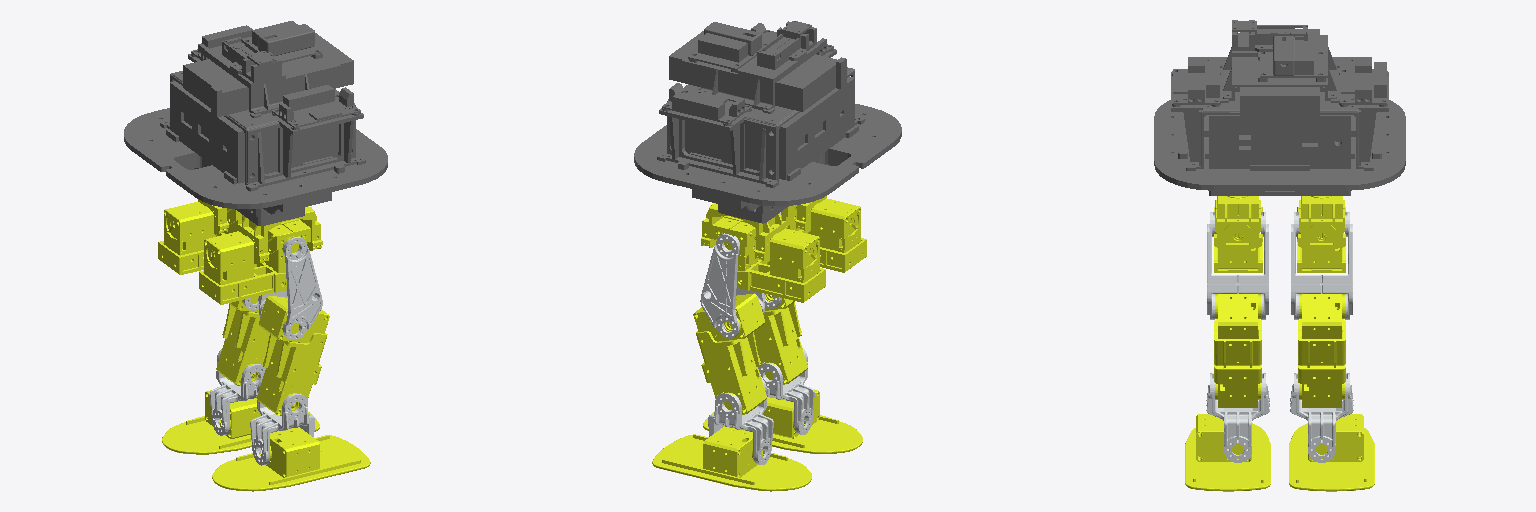
The robot description file, URDF, robot "exhx5_w_b_16":
<?xml version="1.0" encoding="utf-8"?>
<!-- This URDF was automatically created by SolidWorks to URDF Exporter! Originally created by [author] ([email redacted]) 
     Commit Version: 1.5.1-0-g916b5db  Build Version: 1.5.7152.31018
     For more information, please see http://wiki.ros.org/sw_urdf_exporter -->
<robot
  name="exhx5_w_b_16">
  <link
    name="body_link">
    <inertial>
      <origin
        xyz="0.00043545 0.00025536 0.10071"
        rpy="0 0 0" />
      <mass
        value="1.8238" />
      <inertia
        ixx="0.0025905"
        ixy="-5.6852E-06"
        ixz="-1.3106E-05"
        iyy="0.0024595"
        iyz="-1.261E-06"
        izz="0.0046407" />
    </inertial>
    <visual>
      <origin
        xyz="0 0 0"
        rpy="0 0 0" />
      <geometry>
        <mesh
          filename="../meshes/body_link.STL" />
      </geometry>
      <material
        name="">
        <color
          rgba="0.49804 0.49804 0.49804 1" />
      </material>
    </visual>
    <collision>
      <origin
        xyz="0 0 0"
        rpy="0 0 0" />
      <geometry>
        <mesh
          filename="../meshes/body_link.STL" />
      </geometry>
    </collision>
  </link>

  <link
    name="imu_link">
    <inertial>
      <origin
        xyz="-0.008387 1.336E-17 -0.0069463"
        rpy="0 0 0" />
      <mass
        value="0.0062931" />
      <inertia
        ixx="3.2242E-07"
        ixy="3.3527E-22"
        ixz="-6.9193E-08"
        iyy="9.2229E-07"
        iyz="-8.0392E-22"
        izz="1.1018E-06" />
    </inertial>
    <visual>
      <origin
        xyz="0 0 0"
        rpy="0 0 0" />
      <geometry>
        <mesh
          filename="../meshes/imu_link.STL" />
      </geometry>
      <material
        name="">
        <color
          rgba="0.79216 0.81961 0.93333 1" />
      </material>
    </visual>
    <collision>
      <origin
        xyz="0 0 0"
        rpy="0 0 0" />
      <geometry>
        <mesh
          filename="../meshes/imu_link.STL" />
      </geometry>
    </collision>
  </link>
  <joint
    name="imu"
    type="fixed">
    <origin
      xyz="0 0 0.0492"
      rpy="0 0 0" />
    <parent
      link="body_link" />
    <child
      link="imu_link" />
    <axis
      xyz="0 0 0" />
    <limit
      lower="-3.14"
      upper="3.14"
      effort="4"
      velocity="4" />
  </joint>
  <link
    name="l_hip_g_link">
    <inertial>
      <origin
        xyz="-0.0043797 -8.6604E-08 0.011813"
        rpy="0 0 0" />
      <mass
        value="0.061008" />
      <inertia
        ixx="1.167E-05"
        ixy="7.1767E-11"
        ixz="9.1442E-09"
        iyy="2.2342E-05"
        iyz="2.5177E-11"
        izz="2.4892E-05" />
    </inertial>
    <visual>
      <origin
        xyz="0 0 0"
        rpy="0 0 0" />
      <geometry>
        <mesh
          filename="../meshes/l_hip_g_link.STL" />
      </geometry>
      <material
        name="">
        <color
          rgba="0.9451 1 0.18431 1" />
      </material>
    </visual>
    <collision>
      <origin
        xyz="0 0 0"
        rpy="0 0 0" />
      <geometry>
        <mesh
          filename="../meshes/l_hip_g_link.STL" />
      </geometry>
    </collision>
  </link>
  <joint
    name="l_hip_g"
    type="fixed">
    <origin
      xyz=".002 .035 0"
      rpy="0 0 0" />
    <parent
      link="body_link" />
    <child
      link="l_hip_g_link" />
    <axis
      xyz="0 0 0" />
  </joint>
  <link
    name="l_hip_roll_link">
    <inertial>
      <origin
        xyz="0.013831 0.00033457 0.025453"
        rpy="0 0 0" />
      <mass
        value="0.2969" />
      <inertia
        ixx="7.8136E-05"
        ixy="7.265E-07"
        ixz="-6.9809E-08"
        iyy="9.2183E-05"
        iyz="-5.6881E-11"
        izz="7.1034E-05" />
    </inertial>
    <visual>
      <origin
        xyz="0 0 0"
        rpy="0 0 0" />
      <geometry>
        <mesh
          filename="../meshes/l_hip_roll_link.STL" />
      </geometry>
      <material
        name="">
        <color
          rgba="0.9451 1 0.18431 1" />
      </material>
    </visual>
    <collision>
      <origin
        xyz="0 0 0"
        rpy="0 0 0" />
      <geometry>
        <mesh
          filename="../meshes/l_hip_roll_link.STL" />
      </geometry>
    </collision>
  </link>
  <joint
    name="l_hip_roll"
    type="revolute">
    <origin
      xyz="0 0 0"
      rpy="3.1416 1.5708 0" />
    <parent
      link="l_hip_g_link" />
    <child
      link="l_hip_roll_link" />
    <axis
      xyz="0 0 1" />
    <limit
      lower="-3.14"
      upper="3.14"
      effort="4"
      velocity="4" />
  </joint>
  <link
    name="l_hip_pitch_link">
    <inertial>
      <origin
        xyz="0.041225 -0.007321 -5.0713E-08"
        rpy="0 0 0" />
      <mass
        value="0.051592" />
      <inertia
        ixx="2.7959E-05"
        ixy="2.0752E-06"
        ixz="-8.0934E-11"
        iyy="4.8156E-05"
        iyz="3.6317E-11"
        izz="2.9604E-05" />
    </inertial>
    <visual>
      <origin
        xyz="0 0 0"
        rpy="0 0 0" />
      <geometry>
        <mesh
          filename="../meshes/l_hip_pitch_link.STL" />
      </geometry>
      <material
        name="">
        <color
          rgba="0.89804 0.91765 0.92941 1" />
      </material>
    </visual>
    <collision>
      <origin
        xyz="0 0 0"
        rpy="0 0 0" />
      <geometry>
        <mesh
          filename="../meshes/l_hip_pitch_link.STL" />
      </geometry>
    </collision>
  </link>
  <joint
    name="l_hip_pitch"
    type="revolute">
    <origin
      xyz="0 0 0"
      rpy="1.5708 0 0" />
    <parent
      link="l_hip_roll_link" />
    <child
      link="l_hip_pitch_link" />
    <axis
      xyz="0 0 1" />
    <limit
      lower="-3.14"
      upper="3.14"
      effort="4"
      velocity="4" />
  </joint>
  <link
    name="l_knee_link">
    <inertial>
      <origin
        xyz="0.033756 -0.0084189 -6.6115E-09"
        rpy="0 0 0" />
      <mass
        value="0.28878" />
      <inertia
        ixx="6.6724E-05"
        ixy="7.5004E-07"
        ixz="-8.4578E-07"
        iyy="6.5699E-05"
        iyz="4.1085E-07"
        izz="7.0381E-05" />
    </inertial>
    <visual>
      <origin
        xyz="0 0 0"
        rpy="0 0 0" />
      <geometry>
        <mesh
          filename="../meshes/l_knee_link.STL" />
      </geometry>
      <material
        name="">
        <color
          rgba="0.9451 1 0.18431 1" />
      </material>
    </visual>
    <collision>
      <origin
        xyz="0 0 0"
        rpy="0 0 0" />
      <geometry>
        <mesh
          filename="../meshes/l_knee_link.STL" />
      </geometry>
    </collision>
  </link>
  <joint
    name="l_knee"
    type="revolute">
    <origin
      xyz="0.075954 0 0"
      rpy="0 0 0" />
    <parent
      link="l_hip_pitch_link" />
    <child
      link="l_knee_link" />
    <axis
      xyz="0 0 1" />
    <limit
      lower="-3.14"
      upper="3.14"
      effort="4"
      velocity="4" />
  </joint>
  <link
    name="l_ank_pitch_link">
    <inertial>
      <origin
        xyz="0.022786 -7.3909E-09 -7.1981E-06"
        rpy="0 0 0" />
      <mass
        value="0.044772" />
      <inertia
        ixx="1.777E-05"
        ixy="8.555E-14"
        ixz="-3.3713E-09"
        iyy="1.7119E-05"
        iyz="1.7593E-11"
        izz="1.8661E-05" />
    </inertial>
    <visual>
      <origin
        xyz="0 0 0"
        rpy="0 0 0" />
      <geometry>
        <mesh
          filename="../meshes/l_ank_pitch_link.STL" />
      </geometry>
      <material
        name="">
        <color
          rgba="0.89804 0.91765 0.92941 1" />
      </material>
    </visual>
    <collision>
      <origin
        xyz="0 0 0"
        rpy="0 0 0" />
      <geometry>
        <mesh
          filename="../meshes/l_ank_pitch_link.STL" />
      </geometry>
    </collision>
  </link>
  <joint
    name="l_ank_pitch"
    type="revolute">
    <origin
      xyz="0.074602 0 0"
      rpy="3.1416 0 0" />
    <parent
      link="l_knee_link" />
    <child
      link="l_ank_pitch_link" />
    <axis
      xyz="0 0 1" />
    <limit
      lower="-3.14"
      upper="3.14"
      effort="4"
      velocity="4" />
  </joint>
  <link
    name="l_ank_roll_link">
    <inertial>
      <origin
        xyz="0.0047069 0.010728 0.0015299"
        rpy="0 0 0" />
      <mass
        value="0.16774" />
      <inertia
        ixx="0.00012039"
        ixy="-3.7428E-09"
        ixz="4.4069E-08"
        iyy="8.7735E-05"
        iyz="7.0469E-07"
        izz="4.7866E-05" />
    </inertial>
    <visual>
      <origin
        xyz="0 0 0"
        rpy="0 0 0" />
      <geometry>
        <mesh
          filename="../meshes/l_ank_roll_link.STL" />
      </geometry>
      <material
        name="">
        <color
          rgba="0.9451 1 0.18431 1" />
      </material>
    </visual>
    <collision>
      <origin
        xyz="0 0 0"
        rpy="0 0 0" />
      <geometry>
        <mesh
          filename="../meshes/l_ank_roll_link.STL" />
      </geometry>
    </collision>
  </link>
  <joint
    name="l_ank_roll"
    type="revolute">
    <origin
      xyz="0.0465 0 0"
      rpy="-1.5708 0 0" />
    <parent
      link="l_ank_pitch_link" />
    <child
      link="l_ank_roll_link" />
    <axis
      xyz="0 0 1" />
    <limit
      lower="-3.14"
      upper="3.14"
      effort="4"
      velocity="4" />
  </joint>
  <link
    name="r_hip_g_link">
    <inertial>
      <origin
        xyz="-0.0043797 -8.6604E-08 0.011813"
        rpy="0 0 0" />
      <mass
        value="0.061008" />
      <inertia
        ixx="1.167E-05"
        ixy="7.1767E-11"
        ixz="9.1442E-09"
        iyy="2.2342E-05"
        iyz="2.5177E-11"
        izz="2.4892E-05" />
    </inertial>
    <visual>
      <origin
        xyz="0 0 0"
        rpy="0 0 0" />
      <geometry>
        <mesh
          filename="../meshes/r_hip_g_link.STL" />
      </geometry>
      <material
        name="">
        <color
          rgba="0.9451 1 0.18431 1" />
      </material>
    </visual>
    <collision>
      <origin
        xyz="0 0 0"
        rpy="0 0 0" />
      <geometry>
        <mesh
          filename="../meshes/r_hip_g_link.STL" />
      </geometry>
    </collision>
  </link>
  <joint
    name="r_hip_g"
    type="fixed">
    <origin
      xyz=".002 -.035 0"
      rpy="0 0 0" />
    <parent
      link="body_link" />
    <child
      link="r_hip_g_link" />
    <axis
      xyz="0 0 0" />
  </joint>
  <link
    name="r_hip_roll_link">
    <inertial>
      <origin
        xyz="0.013831 0.00033457 0.025453"
        rpy="0 0 0" />
      <mass
        value="0.2969" />
      <inertia
        ixx="7.8136E-05"
        ixy="7.265E-07"
        ixz="-6.9809E-08"
        iyy="9.2183E-05"
        iyz="-5.6881E-11"
        izz="7.1034E-05" />
    </inertial>
    <visual>
      <origin
        xyz="0 0 0"
        rpy="0 0 0" />
      <geometry>
        <mesh
          filename="../meshes/r_hip_roll_link.STL" />
      </geometry>
      <material
        name="">
        <color
          rgba="0.9451 1 0.18431 1" />
      </material>
    </visual>
    <collision>
      <origin
        xyz="0 0 0"
        rpy="0 0 0" />
      <geometry>
        <mesh
          filename="../meshes/r_hip_roll_link.STL" />
      </geometry>
    </collision>
  </link>
  <joint
    name="r_hip_roll"
    type="revolute">
    <origin
      xyz="0 0 0"
      rpy="3.1416 1.5708 0" />
    <parent
      link="r_hip_g_link" />
    <child
      link="r_hip_roll_link" />
    <axis
      xyz="0 0 1" />
    <limit
      lower="-3.14"
      upper="3.14"
      effort="4"
      velocity="4" />
  </joint>
  <link
    name="r_hip_pitch_link">
    <inertial>
      <origin
        xyz="0.041225 0.007321 5.0713E-08"
        rpy="0 0 0" />
      <mass
        value="0.051592" />
      <inertia
        ixx="2.7959E-05"
        ixy="-2.0752E-06"
        ixz="8.0934E-11"
        iyy="4.8156E-05"
        iyz="3.6317E-11"
        izz="2.9604E-05" />
    </inertial>
    <visual>
      <origin
        xyz="0 0 0"
        rpy="0 0 0" />
      <geometry>
        <mesh
          filename="../meshes/r_hip_pitch_link.STL" />
      </geometry>
      <material
        name="">
        <color
          rgba="0.89804 0.91765 0.92941 1" />
      </material>
    </visual>
    <collision>
      <origin
        xyz="0 0 0"
        rpy="0 0 0" />
      <geometry>
        <mesh
          filename="../meshes/r_hip_pitch_link.STL" />
      </geometry>
    </collision>
  </link>
  <joint
    name="r_hip_pitch"
    type="revolute">
    <origin
      xyz="0 0 0"
      rpy="-1.5708 0 0" />
    <parent
      link="r_hip_roll_link" />
    <child
      link="r_hip_pitch_link" />
    <axis
      xyz="0 0 1" />
    <limit
      lower="-3.14"
      upper="3.14"
      effort="4"
      velocity="4" />
  </joint>
  <link
    name="r_knee_link">
    <inertial>
      <origin
        xyz="0.033757 0.0084176 6.6115E-09"
        rpy="0 0 0" />
      <mass
        value="0.28878" />
      <inertia
        ixx="6.6724E-05"
        ixy="-7.5008E-07"
        ixz="8.458E-07"
        iyy="6.5699E-05"
        iyz="4.1081E-07"
        izz="7.0381E-05" />
    </inertial>
    <visual>
      <origin
        xyz="0 0 0"
        rpy="0 0 0" />
      <geometry>
        <mesh
          filename="../meshes/r_knee_link.STL" />
      </geometry>
      <material
        name="">
        <color
          rgba="0.9451 1 0.18431 1" />
      </material>
    </visual>
    <collision>
      <origin
        xyz="0 0 0"
        rpy="0 0 0" />
      <geometry>
        <mesh
          filename="../meshes/r_knee_link.STL" />
      </geometry>
    </collision>
  </link>
  <joint
    name="r_knee"
    type="revolute">
    <origin
      xyz="0.075954 0 0"
      rpy="0 0 0" />
    <parent
      link="r_hip_pitch_link" />
    <child
      link="r_knee_link" />
    <axis
      xyz="0 0 1" />
    <limit
      lower="-3.14"
      upper="3.14"
      effort="4"
      velocity="4" />
  </joint>
  <link
    name="r_ank_pitch_link">
    <inertial>
      <origin
        xyz="0.025786 -7.3887E-09 -7.1981E-06"
        rpy="0 0 0" />
      <mass
        value="0.044772" />
      <inertia
        ixx="1.777E-05"
        ixy="8.5434E-14"
        ixz="-3.3713E-09"
        iyy="1.7119E-05"
        iyz="1.7592E-11"
        izz="1.8661E-05" />
    </inertial>
    <visual>
      <origin
        xyz="0 0 0"
        rpy="0 0 0" />
      <geometry>
        <mesh
          filename="../meshes/r_ank_pitch_link.STL" />
      </geometry>
      <material
        name="">
        <color
          rgba="0.89804 0.91765 0.92941 1" />
      </material>
    </visual>
    <collision>
      <origin
        xyz="0 0 0"
        rpy="0 0 0" />
      <geometry>
        <mesh
          filename="../meshes/r_ank_pitch_link.STL" />
      </geometry>
    </collision>
  </link>
  <joint
    name="r_ank_pitch"
    type="revolute">
    <origin
      xyz="0.071602 0 0"
      rpy="3.1416 0 0" />
    <parent
      link="r_knee_link" />
    <child
      link="r_ank_pitch_link" />
    <axis
      xyz="0 0 1" />
    <limit
      lower="-3.14"
      upper="3.14"
      effort="4"
      velocity="4" />
  </joint>
  <link
    name="r_ank_roll_link">
    <inertial>
      <origin
        xyz="0.0077069 -0.010728 0.0015299"
        rpy="0 0 0" />
      <mass
        value="0.16774" />
      <inertia
        ixx="0.00012039"
        ixy="3.743E-09"
        ixz="4.407E-08"
        iyy="8.7735E-05"
        iyz="-7.0467E-07"
        izz="4.7866E-05" />
    </inertial>
    <visual>
      <origin
        xyz="0 0 0"
        rpy="0 0 0" />
      <geometry>
        <mesh
          filename="../meshes/r_ank_roll_link.STL" />
      </geometry>
      <material
        name="">
        <color
          rgba="0.9451 1 0.18431 1" />
      </material>
    </visual>
    <collision>
      <origin
        xyz="0 0 0"
        rpy="0 0 0" />
      <geometry>
        <mesh
          filename="../meshes/r_ank_roll_link.STL" />
      </geometry>
    </collision>
  </link>
  <joint
    name="r_ank_roll"
    type="revolute">
    <origin
      xyz="0.0465 0 0"
      rpy="1.5708 0 0" />
    <parent
      link="r_ank_pitch_link" />
    <child
      link="r_ank_roll_link" />
    <axis
      xyz="0 0 1" />
    <limit
      lower="-3.14"
      upper="3.14"
      effort="4"
      velocity="4" />
  </joint>
  <transmission name="r_hip_roll_tran">
    <type>transmission_interface/SimpleTransmission</type>
    <joint name="r_hip_roll">
      <hardwareInterface>hardware_interface/EffortJointInterface</hardwareInterface>
    </joint>
    <actuator name="r_hip_roll_motor">
      <hardwareInterface>hardware_interface/EffortJointInterface</hardwareInterface>
      <mechanicalReduction>1</mechanicalReduction>
    </actuator>
  </transmission>
  <transmission name="r_hip_pitch_tran">
    <type>transmission_interface/SimpleTransmission</type>
    <joint name="r_hip_pitch">
      <hardwareInterface>hardware_interface/EffortJointInterface</hardwareInterface>
    </joint>
    <actuator name="r_hip_pitch_motor">
      <hardwareInterface>hardware_interface/EffortJointInterface</hardwareInterface>
      <mechanicalReduction>1</mechanicalReduction>
    </actuator>
  </transmission>
  <transmission name="r_knee_tran">
    <type>transmission_interface/SimpleTransmission</type>
    <joint name="r_knee">
      <hardwareInterface>hardware_interface/EffortJointInterface</hardwareInterface>
    </joint>
    <actuator name="r_knee_motor">
      <hardwareInterface>hardware_interface/EffortJointInterface</hardwareInterface>
      <mechanicalReduction>1</mechanicalReduction>
    </actuator>
  </transmission>
  <transmission name="r_ank_pitch_tran">
    <type>transmission_interface/SimpleTransmission</type>
    <joint name="r_ank_pitch">
      <hardwareInterface>hardware_interface/EffortJointInterface</hardwareInterface>
    </joint>
    <actuator name="r_ank_pitch_motor">
      <hardwareInterface>hardware_interface/EffortJointInterface</hardwareInterface>
      <mechanicalReduction>1</mechanicalReduction>
    </actuator>
  </transmission>
  <transmission name="r_ank_roll_tran">
    <type>transmission_interface/SimpleTransmission</type>
    <joint name="r_ank_roll">
      <hardwareInterface>hardware_interface/EffortJointInterface</hardwareInterface>
    </joint>
    <actuator name="r_ank_roll_motor">
      <hardwareInterface>hardware_interface/EffortJointInterface</hardwareInterface>
      <mechanicalReduction>1</mechanicalReduction>
    </actuator>
  </transmission>
  <transmission name="l_hip_roll_tran">
    <type>transmission_interface/SimpleTransmission</type>
    <joint name="l_hip_roll">
      <hardwareInterface>hardware_interface/EffortJointInterface</hardwareInterface>
    </joint>
    <actuator name="l_hip_roll_motor">
      <hardwareInterface>hardware_interface/EffortJointInterface</hardwareInterface>
      <mechanicalReduction>1</mechanicalReduction>
    </actuator>
  </transmission>
  <transmission name="l_hip_pitch_tran">
    <type>transmission_interface/SimpleTransmission</type>
    <joint name="l_hip_pitch">
      <hardwareInterface>hardware_interface/EffortJointInterface</hardwareInterface>
    </joint>
    <actuator name="l_hip_pitch_motor">
      <hardwareInterface>hardware_interface/EffortJointInterface</hardwareInterface>
      <mechanicalReduction>1</mechanicalReduction>
    </actuator>
  </transmission>
  <transmission name="l_knee_tran">
    <type>transmission_interface/SimpleTransmission</type>
    <joint name="l_knee">
      <hardwareInterface>hardware_interface/EffortJointInterface</hardwareInterface>
    </joint>
    <actuator name="l_knee_motor">
      <hardwareInterface>hardware_interface/EffortJointInterface</hardwareInterface>
      <mechanicalReduction>1</mechanicalReduction>
    </actuator>
  </transmission>
  <transmission name="l_ank_pitch_tran">
    <type>transmission_interface/SimpleTransmission</type>
    <joint name="l_ank_pitch">
      <hardwareInterface>hardware_interface/EffortJointInterface</hardwareInterface>
    </joint>
    <actuator name="l_ank_pitch_motor">
      <hardwareInterface>hardware_interface/EffortJointInterface</hardwareInterface>
      <mechanicalReduction>1</mechanicalReduction>
    </actuator>
  </transmission>
  <transmission name="l_ank_roll_tran">
    <type>transmission_interface/SimpleTransmission</type>
    <joint name="l_ank_roll">
      <hardwareInterface>hardware_interface/EffortJointInterface</hardwareInterface>
    </joint>
    <actuator name="l_ank_roll_motor">
      <hardwareInterface>hardware_interface/EffortJointInterface</hardwareInterface>
      <mechanicalReduction>1</mechanicalReduction>
    </actuator>
  </transmission>
</robot>

--- Render facts (derived) ---
The picture shows the robot from 3 angles, left to right: view 1: azimuth 30°, elevation 25°; view 2: azimuth 150°, elevation 25°; view 3: azimuth 270°, elevation 25°; orthographic projection.
Robot: exhx5_w_b_16 — 14 links, 13 joints (10 revolute, 3 fixed); root link body_link; default pose: every joint at zero.
Visible links, largest first — view 1: body_link, r_ank_roll_link, r_hip_roll_link, r_knee_link, l_hip_roll_link, l_ank_roll_link, r_hip_pitch_link, l_knee_link, r_ank_pitch_link, l_ank_pitch_link, r_hip_g_link; view 2: body_link, l_ank_roll_link, l_hip_roll_link, l_knee_link, r_hip_roll_link, r_ank_roll_link, l_hip_pitch_link, r_knee_link, l_ank_pitch_link, r_ank_pitch_link, l_hip_g_link; view 3: body_link, l_knee_link, r_knee_link, l_ank_roll_link, r_ank_roll_link, l_hip_pitch_link, r_hip_pitch_link, l_hip_g_link, r_hip_g_link, l_ank_pitch_link, r_ank_pitch_link, l_hip_roll_link (+1 smaller).
Link boxes in pixels (box(x1,y1,x2,y2)): body_link: box(124, 21, 387, 251); r_ank_roll_link: box(212, 427, 370, 491); r_hip_roll_link: box(199, 219, 310, 304); r_knee_link: box(257, 296, 329, 415); l_hip_roll_link: box(158, 202, 242, 274); l_ank_roll_link: box(162, 390, 319, 454); r_hip_pitch_link: box(259, 236, 322, 339); l_knee_link: box(216, 296, 269, 385); r_ank_pitch_link: box(250, 378, 314, 465); l_ank_pitch_link: box(210, 349, 265, 435); r_hip_g_link: box(238, 206, 322, 263); body_link: box(634, 21, 901, 223); l_ank_roll_link: box(652, 426, 811, 491); l_hip_roll_link: box(712, 216, 825, 302); l_knee_link: box(693, 293, 766, 414); r_hip_roll_link: box(781, 198, 866, 272); r_ank_roll_link: box(703, 389, 862, 453); l_hip_pitch_link: box(700, 233, 764, 338); r_knee_link: box(754, 294, 807, 384); l_ank_pitch_link: box(708, 377, 773, 464); r_ank_pitch_link: box(758, 347, 814, 434); l_hip_g_link: box(701, 203, 785, 261); body_link: box(1154, 20, 1405, 195); l_knee_link: box(1298, 294, 1345, 407); r_knee_link: box(1214, 294, 1261, 407); l_ank_roll_link: box(1289, 414, 1374, 491); r_ank_roll_link: box(1185, 414, 1270, 491); l_hip_pitch_link: box(1291, 212, 1352, 319); r_hip_pitch_link: box(1207, 212, 1268, 319); l_hip_g_link: box(1297, 196, 1345, 247); r_hip_g_link: box(1214, 196, 1262, 247); l_ank_pitch_link: box(1290, 373, 1353, 462); r_ank_pitch_link: box(1206, 373, 1269, 462); l_hip_roll_link: box(1297, 200, 1345, 272).
Bounding box of the posed robot: 0.185 × 0.21 × 0.3893 m (x, y, z).
Meshes: 14 distinct files referenced, 14 mesh visuals loaded (14 binary STL).